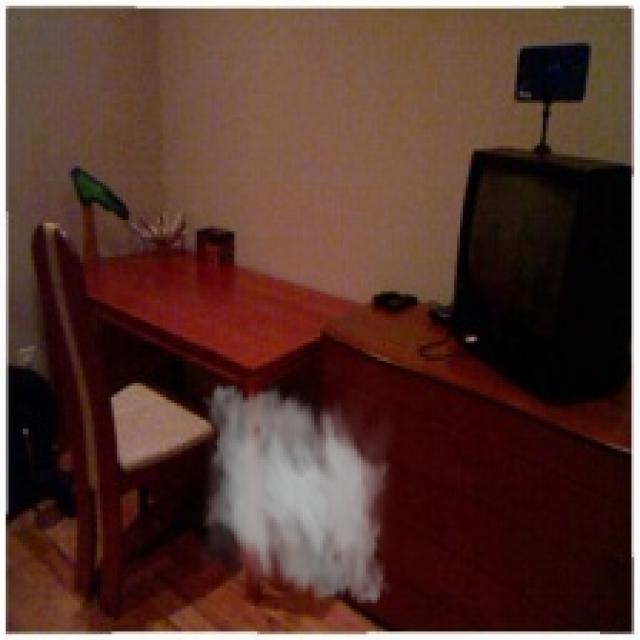Smoke: (188, 374, 400, 614)
